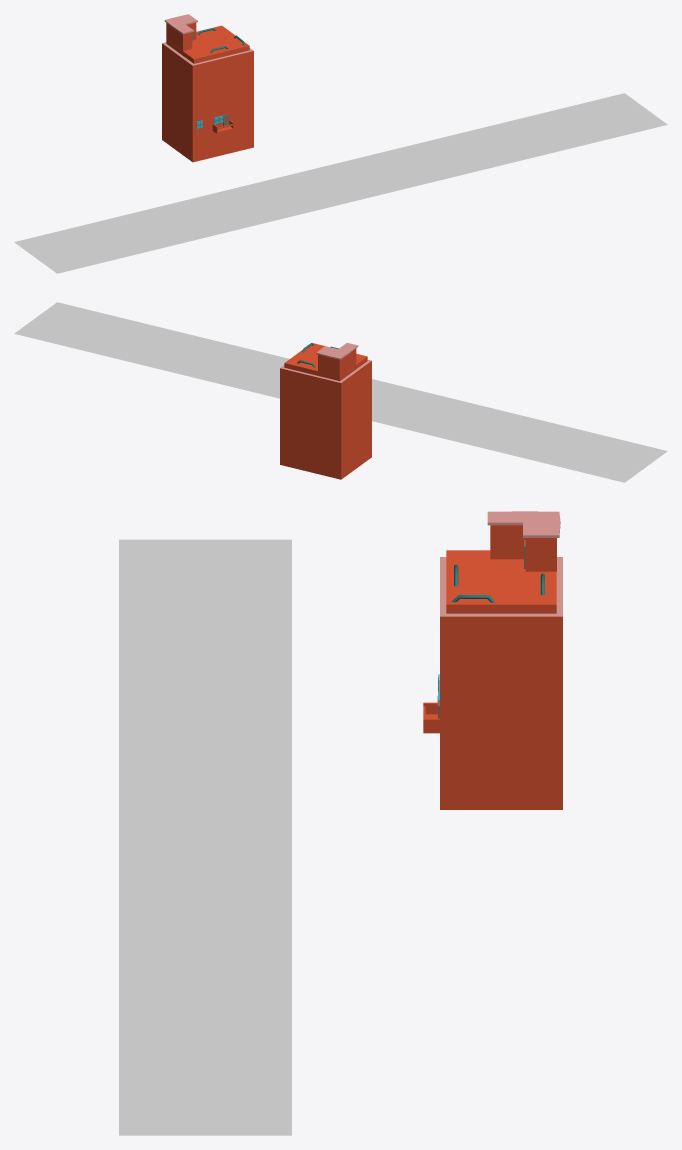
The model's file is Terraza.fbx.
3 views of the same model, one above another, from view 1: azimuth 30°, elevation 25°; view 2: azimuth 150°, elevation 25°; view 3: azimuth 270°, elevation 25° (orthographic). The views are drawn at different scales.
Parts seen in each view (by area): view 1: Plane, Cube.001; view 2: Plane, Cube.001; view 3: Plane, Cube.001.
Boxes of the visible parts, x1,y1,x2,y2 form: Plane: (14, 93, 667, 273); Cube.001: (162, 14, 253, 162); Plane: (14, 302, 667, 482); Cube.001: (280, 343, 371, 479); Plane: (119, 539, 291, 1135); Cube.001: (440, 511, 562, 809).
Bounding box in the file's own units: 6911 × 1304 × 2176.
